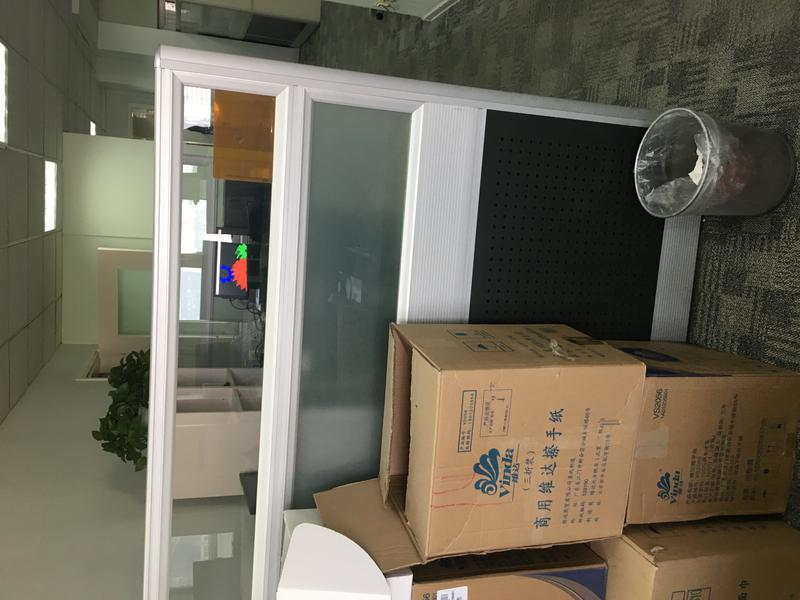glxgears_pass: (216, 238, 249, 295)
